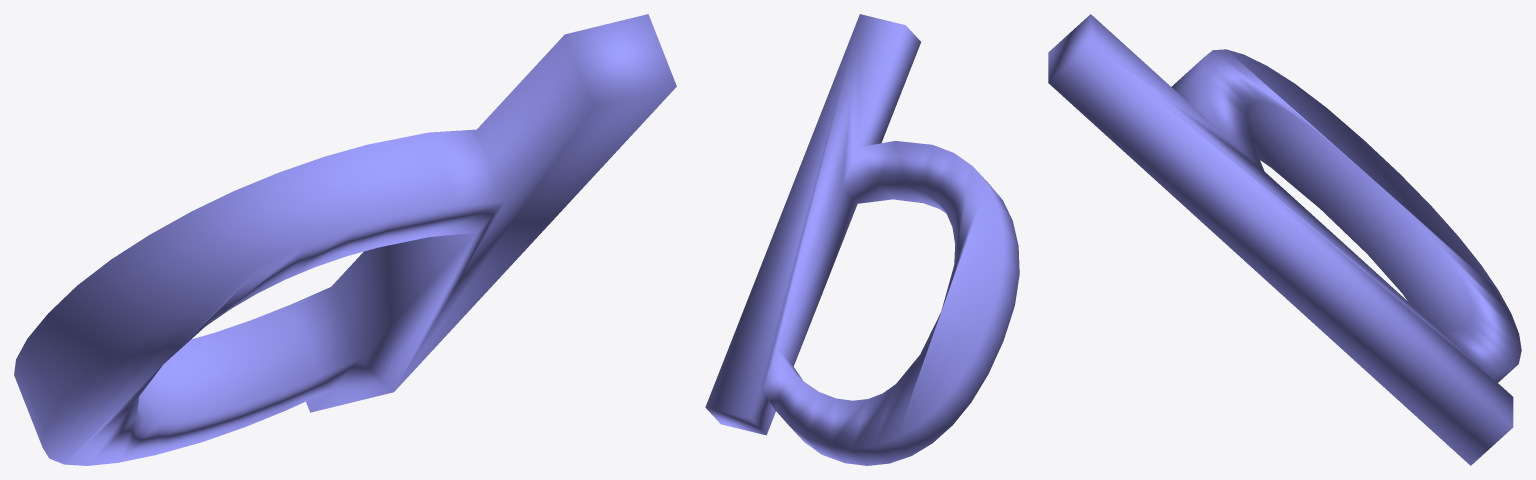
The model's file is original-6.obj.
3 views of the same model, side by side, from view 1: azimuth 30°, elevation 25°; view 2: azimuth 150°, elevation 25°; view 3: azimuth 270°, elevation 25° (orthographic). The views are drawn at different scales.
Visible parts, largest first — view 1: mesh4/mesh4-geometry#mesh4-geometry; view 2: mesh4/mesh4-geometry#mesh4-geometry; view 3: mesh4/mesh4-geometry#mesh4-geometry.
Part boxes in pixels (x1=…): mesh4/mesh4-geometry#mesh4-geometry: x1=14, y1=14, x2=676, y2=465; mesh4/mesh4-geometry#mesh4-geometry: x1=705, y1=14, x2=1019, y2=465; mesh4/mesh4-geometry#mesh4-geometry: x1=1048, y1=14, x2=1521, y2=465.
Bounding box in the file's own units: 0.0611 × 0.0803 × 0.0803.
